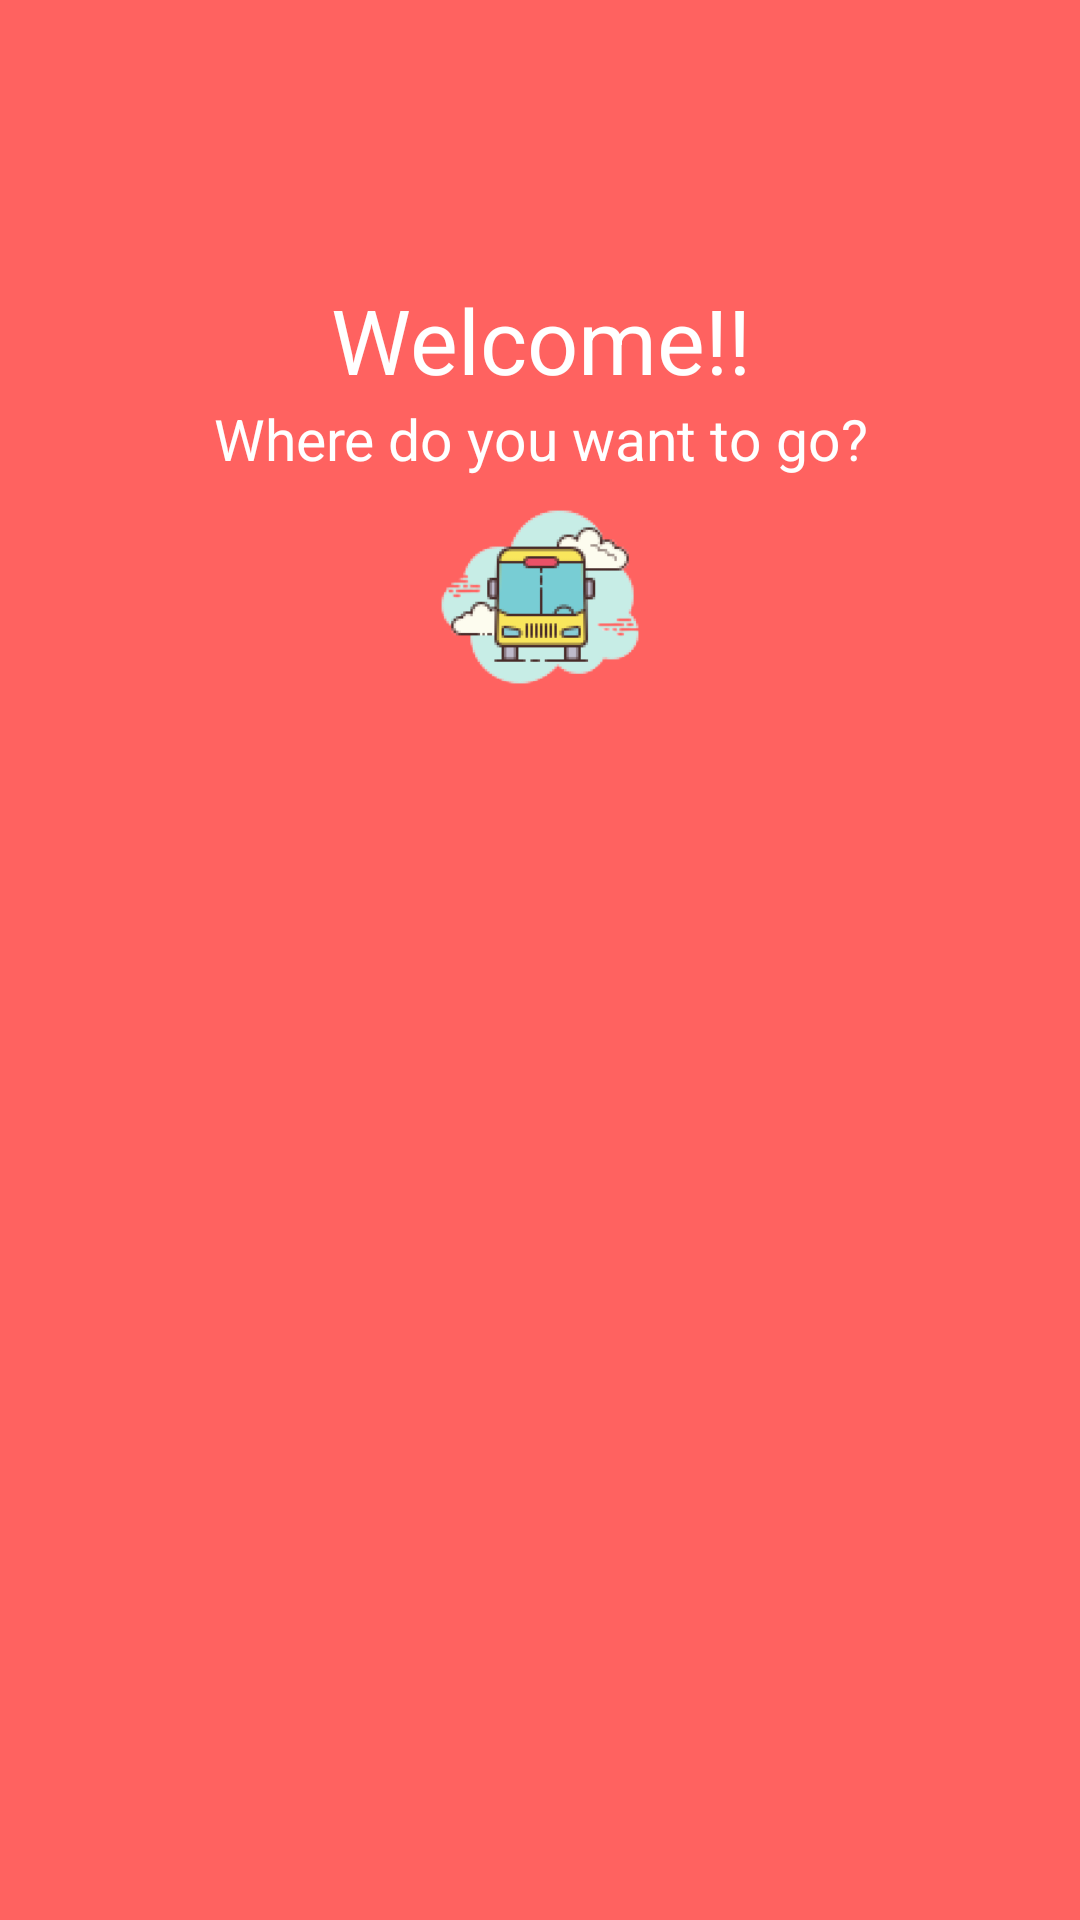

Locate icon controls on the screen. Image size 1080x1920, boxes as [x1, y1, x2, y2].
bus front: [441, 510, 639, 684]
